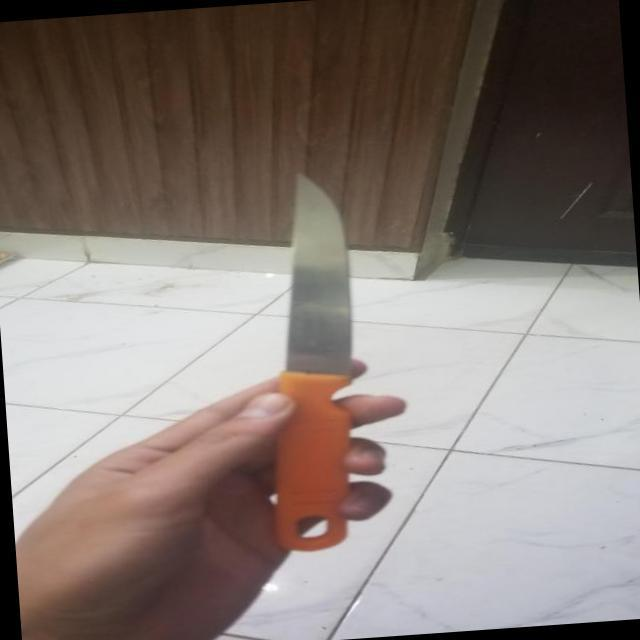Knife: (222, 162, 396, 560)
